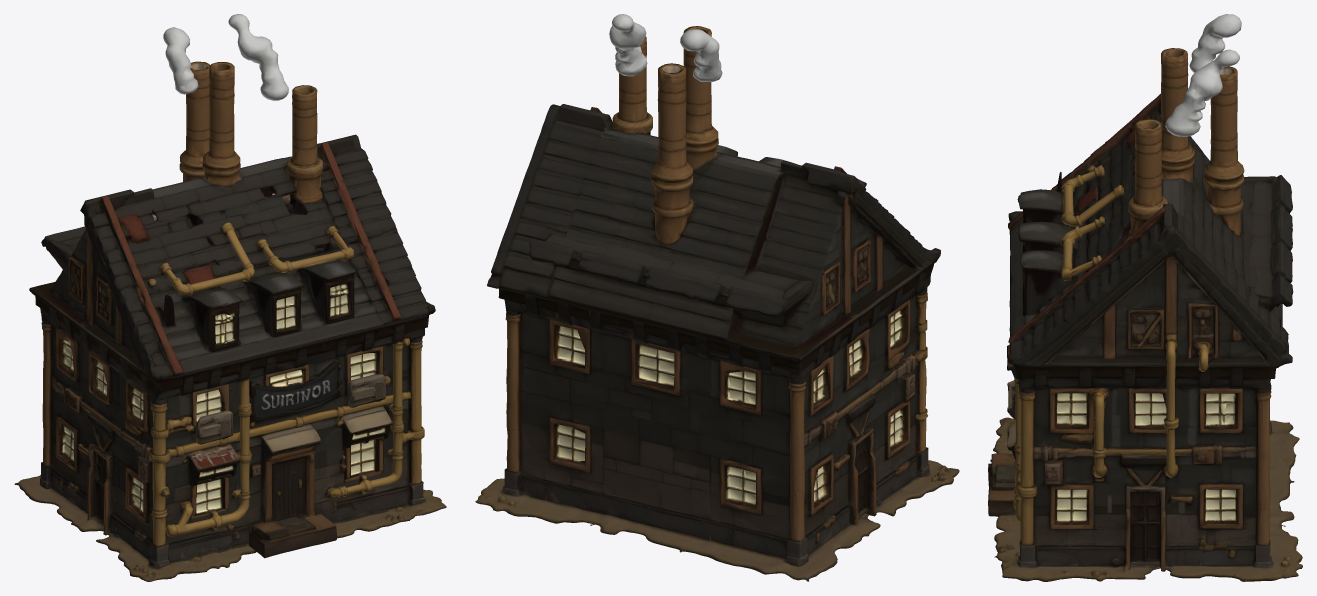
File: safe_house.glb
The picture shows the model from 3 angles, left to right: view 1: azimuth 30°, elevation 25°; view 2: azimuth 150°, elevation 25°; view 3: azimuth 270°, elevation 25°; orthographic projection. The views are drawn at different scales.
Visible parts, largest first — view 1: tripo_node_e8b6f7a5-2dc1-4965-bef8-237b81ad8019; view 2: tripo_node_e8b6f7a5-2dc1-4965-bef8-237b81ad8019; view 3: tripo_node_e8b6f7a5-2dc1-4965-bef8-237b81ad8019.
Part boxes in pixels (x1,y1,x2,y2): tripo_node_e8b6f7a5-2dc1-4965-bef8-237b81ad8019: (14,14,446,581); tripo_node_e8b6f7a5-2dc1-4965-bef8-237b81ad8019: (475,14,959,581); tripo_node_e8b6f7a5-2dc1-4965-bef8-237b81ad8019: (988,14,1302,581).
Size of the model in its own units: 0.7328 by 1 by 0.5974.
Materials: 1 (1 with a texture image).
